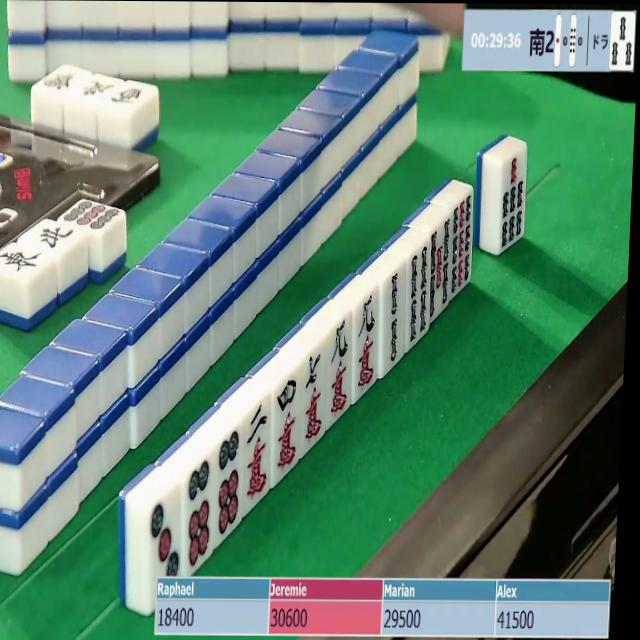m2: (241, 398, 275, 510)
m4: (267, 372, 306, 478)
m7: (299, 343, 332, 448)
m9: (349, 288, 387, 394), (324, 314, 357, 420)
s2: (375, 269, 413, 370)
s3: (611, 14, 636, 70)
s4: (403, 247, 432, 348)
s5: (427, 219, 453, 324)
s7: (498, 148, 528, 247)
s9: (450, 186, 476, 296)
t3: (146, 494, 185, 579)
t6: (180, 455, 216, 574), (210, 429, 244, 539)
